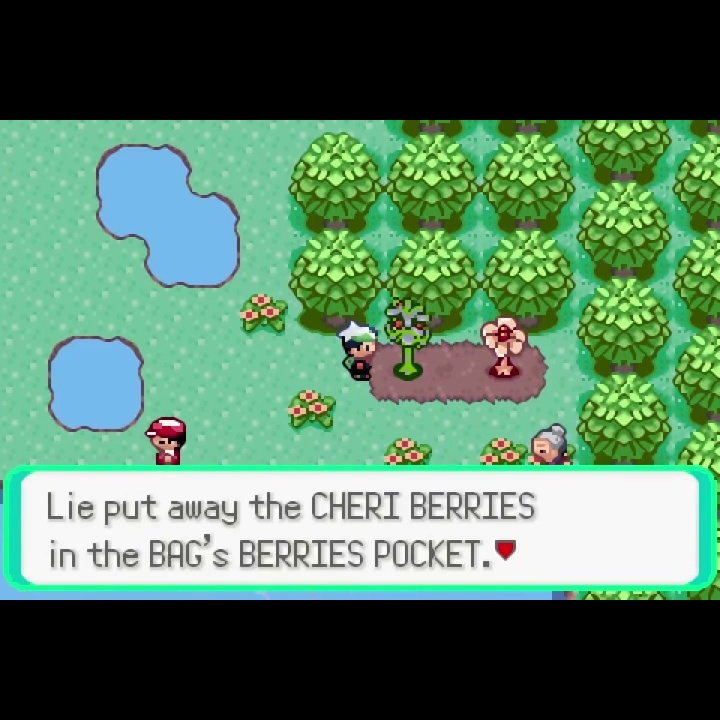npc: (338, 319, 382, 384), (143, 413, 189, 465), (530, 423, 570, 466)
wall: (288, 228, 385, 337), (482, 230, 577, 340), (385, 228, 480, 337), (577, 181, 675, 279), (288, 133, 385, 230), (385, 133, 480, 231), (482, 134, 578, 230), (577, 279, 673, 374), (577, 373, 673, 465), (579, 120, 675, 181), (672, 325, 720, 423), (673, 133, 720, 230), (674, 229, 720, 327), (482, 120, 581, 143), (673, 419, 720, 466), (386, 120, 481, 143), (674, 119, 720, 141)
